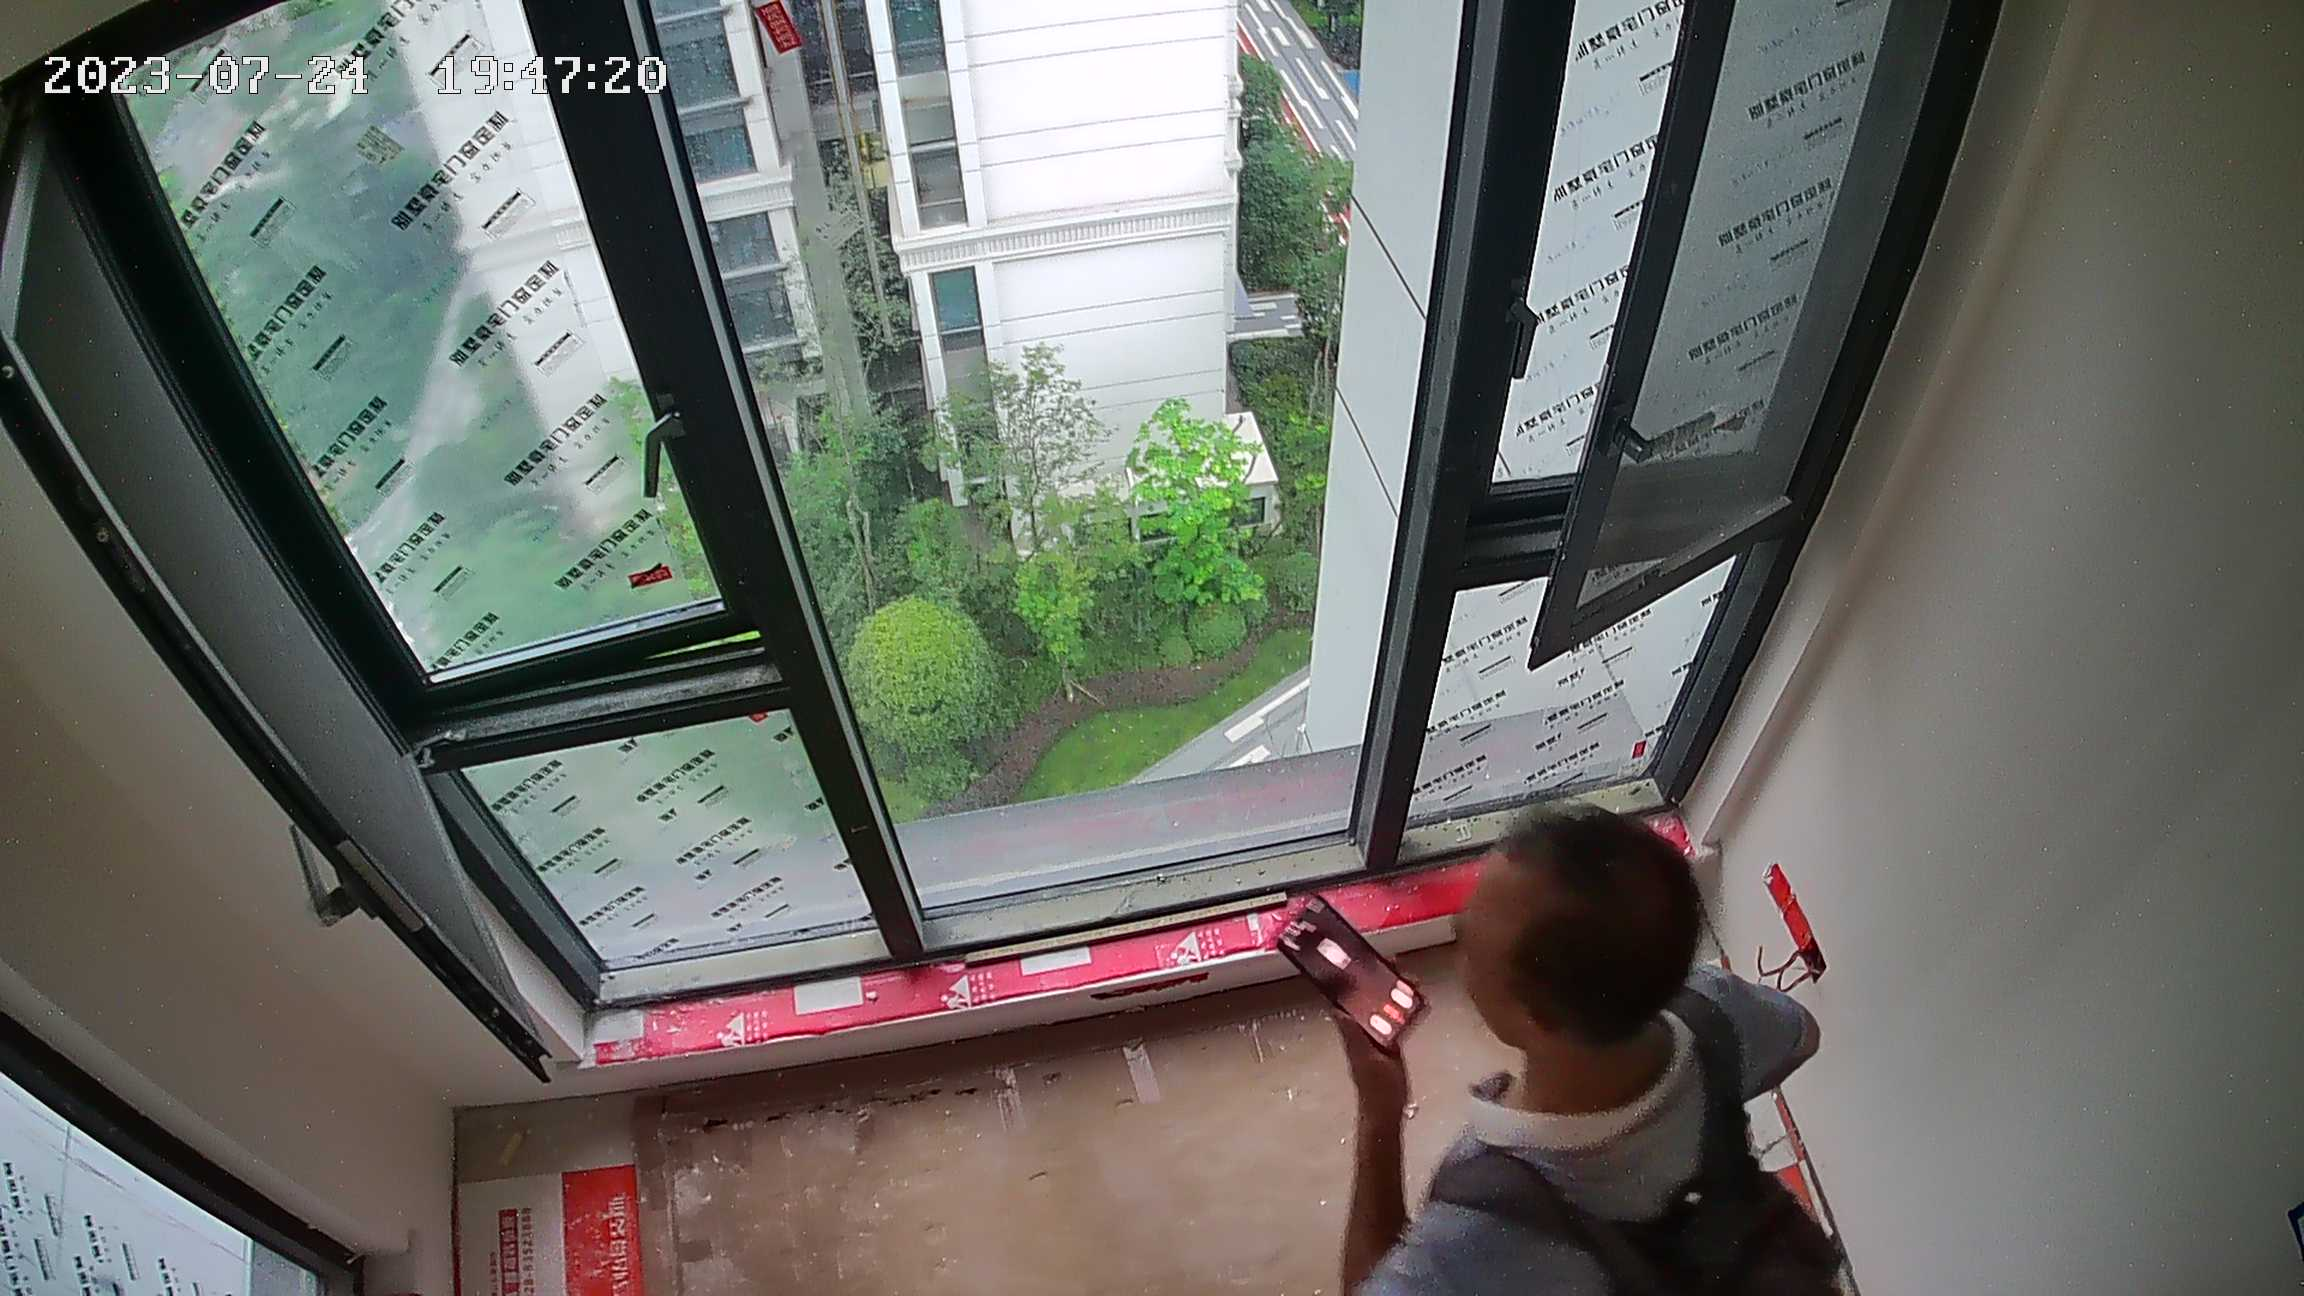people: (1257, 813, 1852, 1296)
window: (86, 3, 1921, 884)
